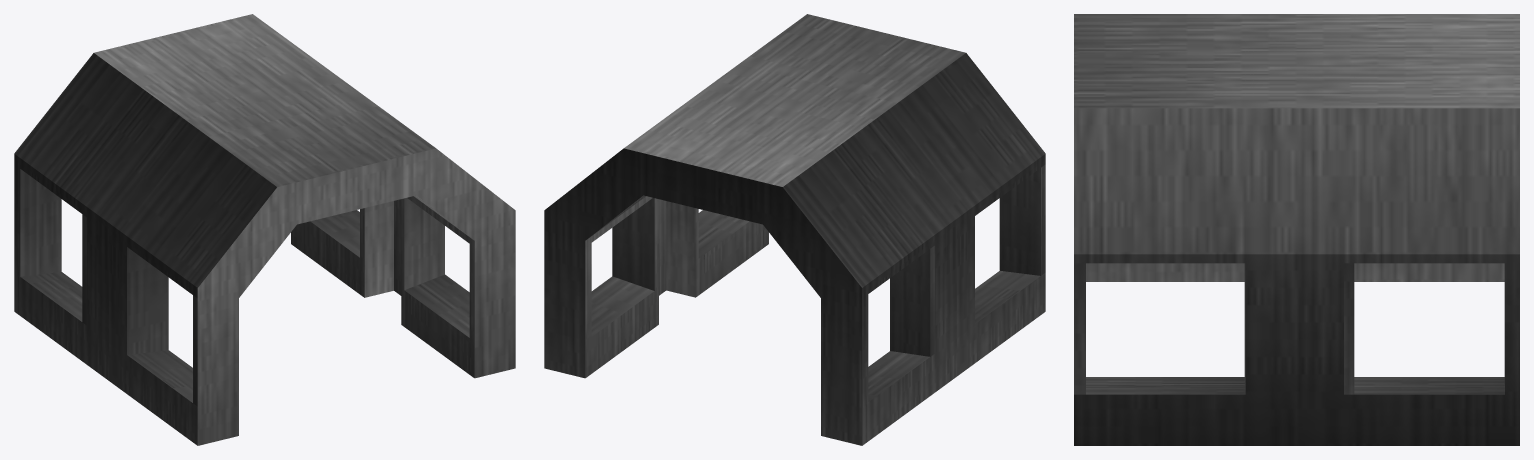
File: HallwayLargeWindows.fbx
3 views of the same model, side by side, from view 1: azimuth 30°, elevation 25°; view 2: azimuth 150°, elevation 25°; view 3: azimuth 270°, elevation 25° (orthographic). The views are drawn at different scales.
Visible parts, largest first — view 1: HallwayLargeWindows; view 2: HallwayLargeWindows; view 3: HallwayLargeWindows.
Part boxes in pixels (box(x1,y1,x2,y2)): HallwayLargeWindows: box(14, 14, 515, 445); HallwayLargeWindows: box(544, 14, 1045, 445); HallwayLargeWindows: box(1074, 14, 1519, 445).
Bounding box in the file's own units: 4 × 2.88 × 4.
1 material, 1 textured.
